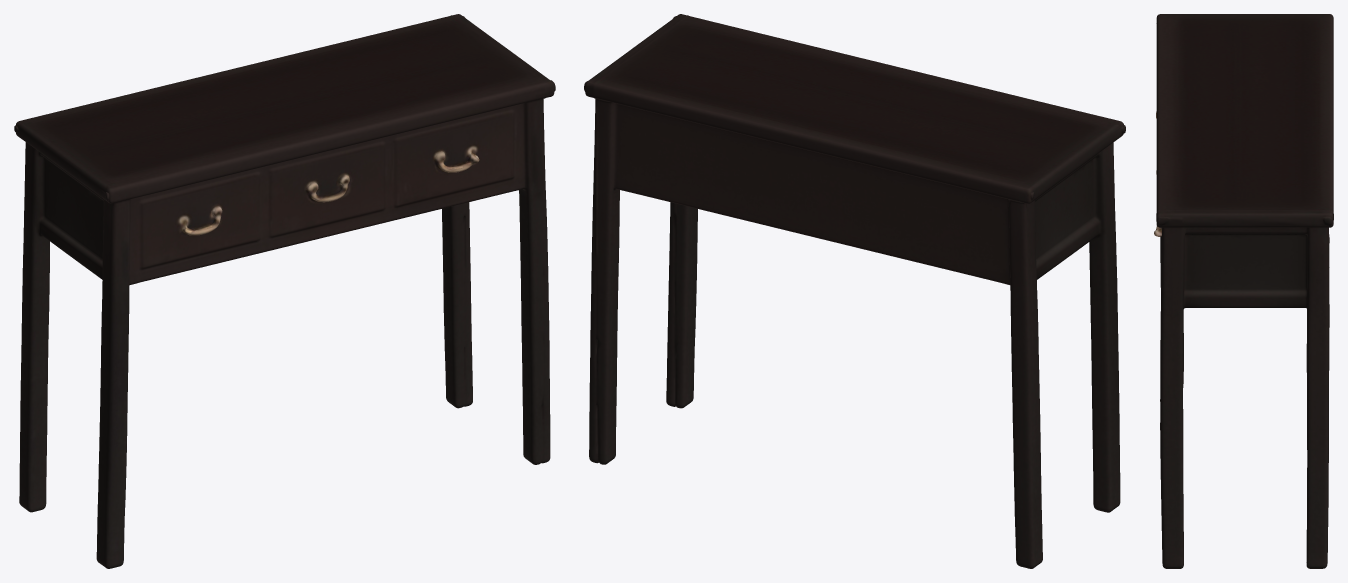
File: product-glam-cindy-console-with-storage-drawers-black-safavieh-01.glb
3 views of the same model, side by side, from view 1: azimuth 30°, elevation 25°; view 2: azimuth 150°, elevation 25°; view 3: azimuth 270°, elevation 25° (orthographic). The views are drawn at different scales.
Parts seen in each view (by area): view 1: geometry_0; view 2: geometry_0; view 3: geometry_0.
Part boxes in pixels (box(x1,y1,x2,y2)): geometry_0: box(14, 14, 555, 568); geometry_0: box(584, 14, 1125, 568); geometry_0: box(1154, 14, 1333, 568).
Bounding box in the file's own units: 1.99 × 1.63 × 0.7434.
1 material, 1 textured.
